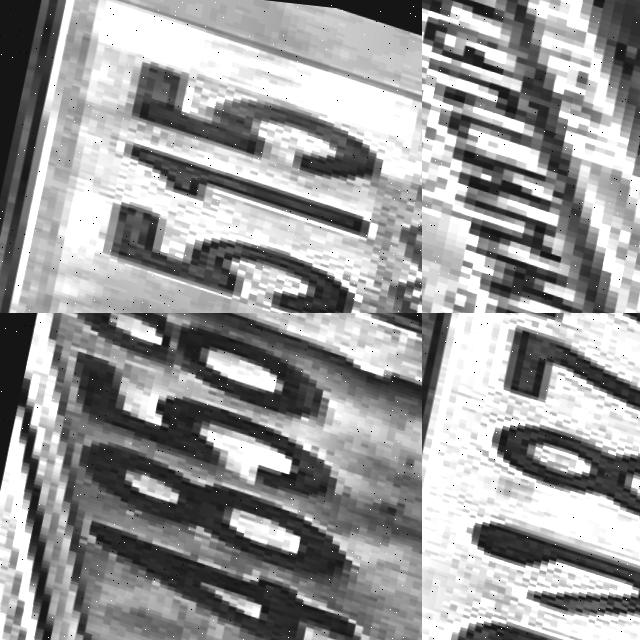license-plate: (0, 313, 422, 640), (0, 0, 422, 313), (422, 313, 640, 640), (422, 0, 640, 313)
